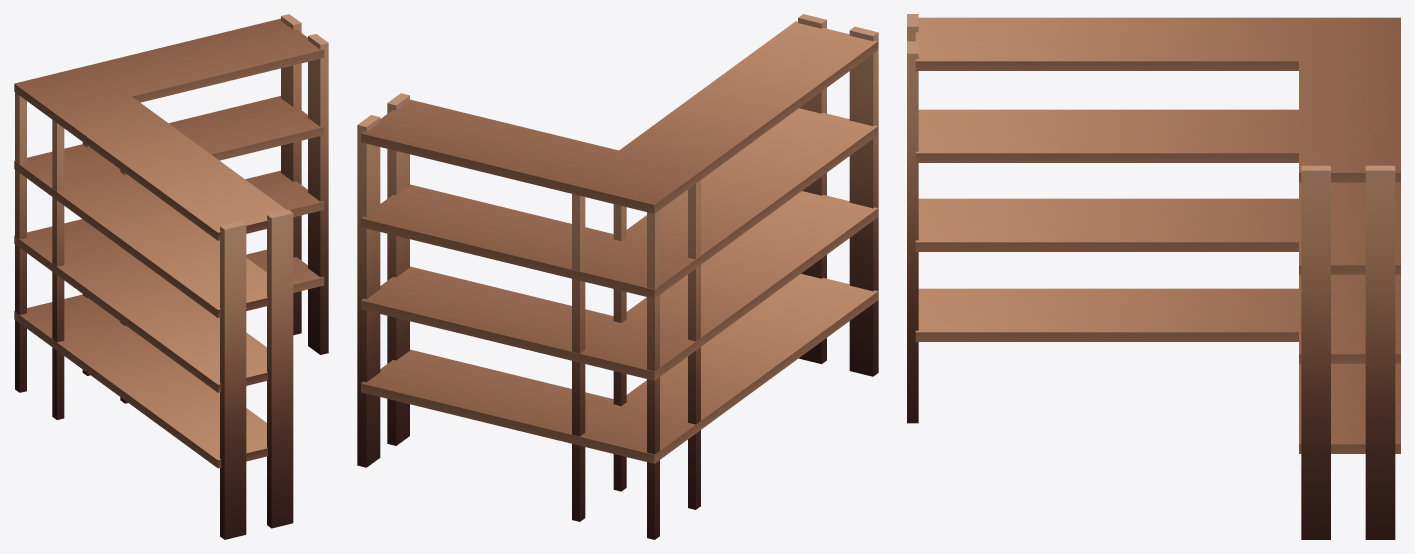
File: SM_cornershelf.fbx
The picture shows the model from 3 angles, left to right: view 1: azimuth 30°, elevation 25°; view 2: azimuth 150°, elevation 25°; view 3: azimuth 270°, elevation 25°; orthographic projection. The views are drawn at different scales.
Visible parts, largest first — view 1: cornershelf; view 2: cornershelf; view 3: cornershelf.
Part boxes in pixels (<box>): cornershelf: <box>14,14,328,539</box>; cornershelf: <box>357,14,878,539</box>; cornershelf: <box>907,14,1400,539</box>.
Bounding box in the file's own units: 15.53 × 16.87 × 20.44.
